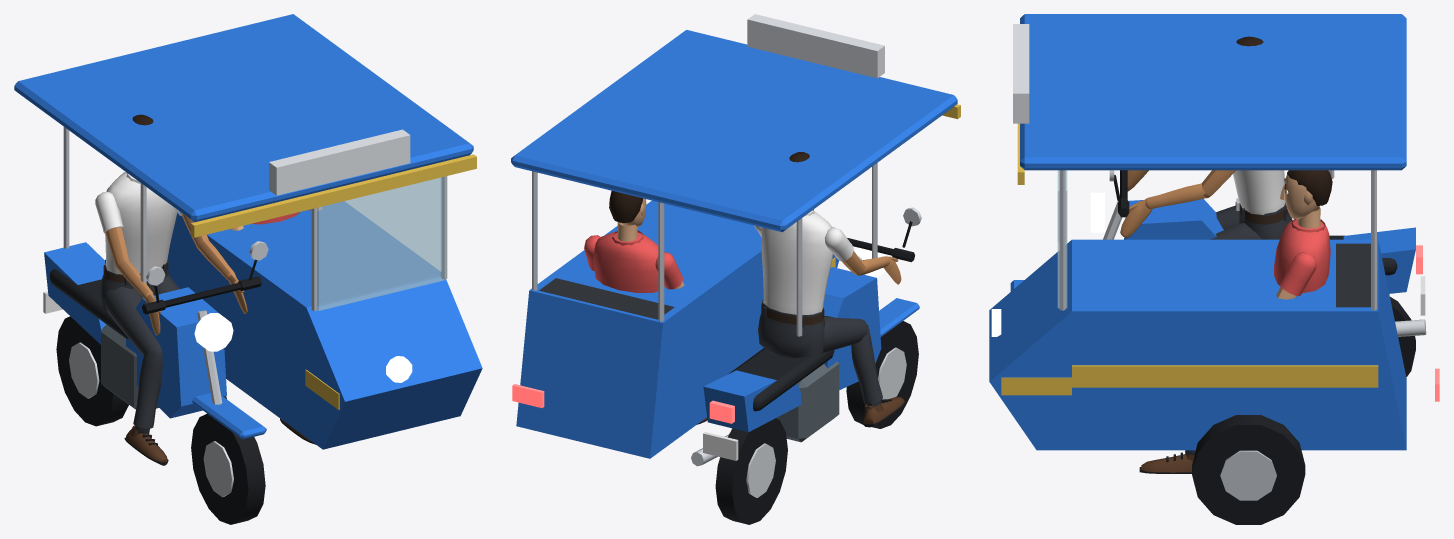
Rendered from tricycle.glb.
3 renders of one model, left to right at view 1: azimuth 30°, elevation 25°; view 2: azimuth 150°, elevation 25°; view 3: azimuth 270°, elevation 25°, orthographic. The views are drawn at different scales.
Parts seen in each view (by area): view 1: tricycle; view 2: tricycle; view 3: tricycle.
Boxes of the visible parts, box(x1,y1,x2,y2) form: tricycle: box(14, 14, 482, 524); tricycle: box(511, 14, 960, 524); tricycle: box(989, 14, 1439, 524).
Size of the model in its own units: 1.59 by 1.82 by 1.91.
